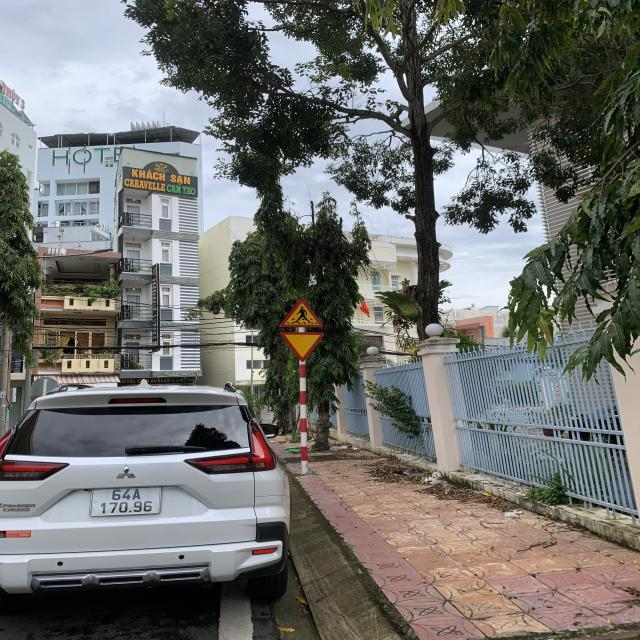Duong_Nguoi_Di_Bo_Sang_Ngang: (283, 298, 324, 328)
Gioi_Han_Toc_Do_25: (280, 332, 326, 359)
